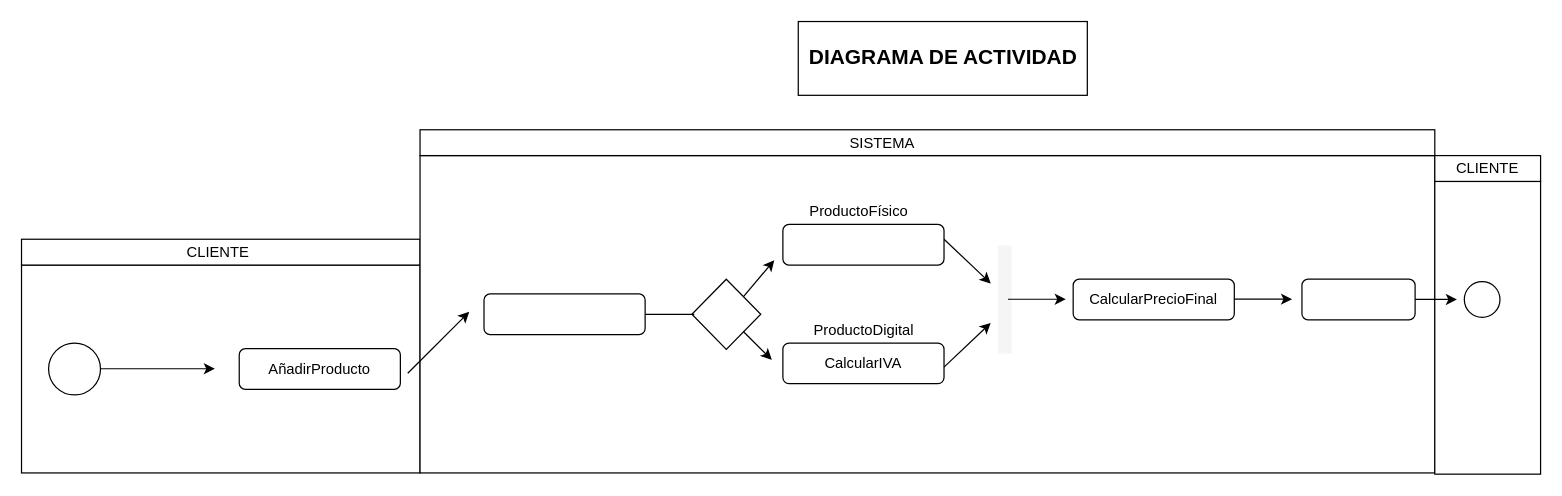
The diagram is 1562 pixels wide and 496 high, and some of its shapes have lost their labels. The centre of each missing label's shape, as x and y in pixels:
"CalcularPrecioEnvío" belongs at point (863, 244).
"ConfirmarPedido" belongs at point (564, 314).
"PagarPedido" belongs at point (1358, 299).
